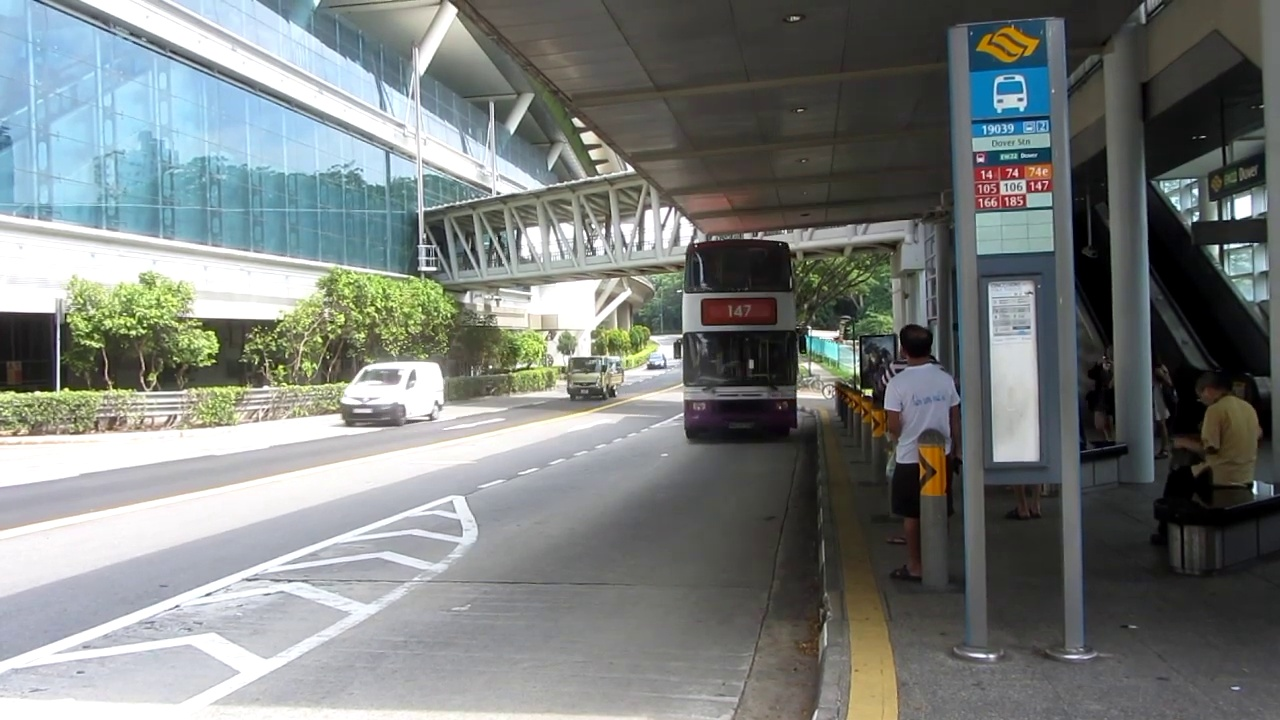bus panel: (699, 297, 779, 326)
